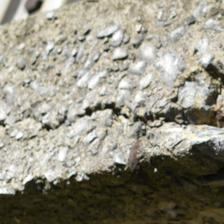Crack: (1, 30, 220, 118)
